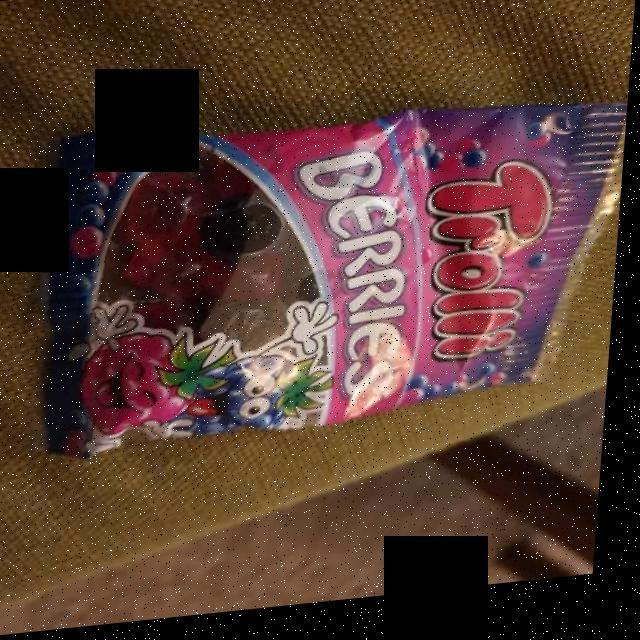gummies: (73, 121, 577, 453)
